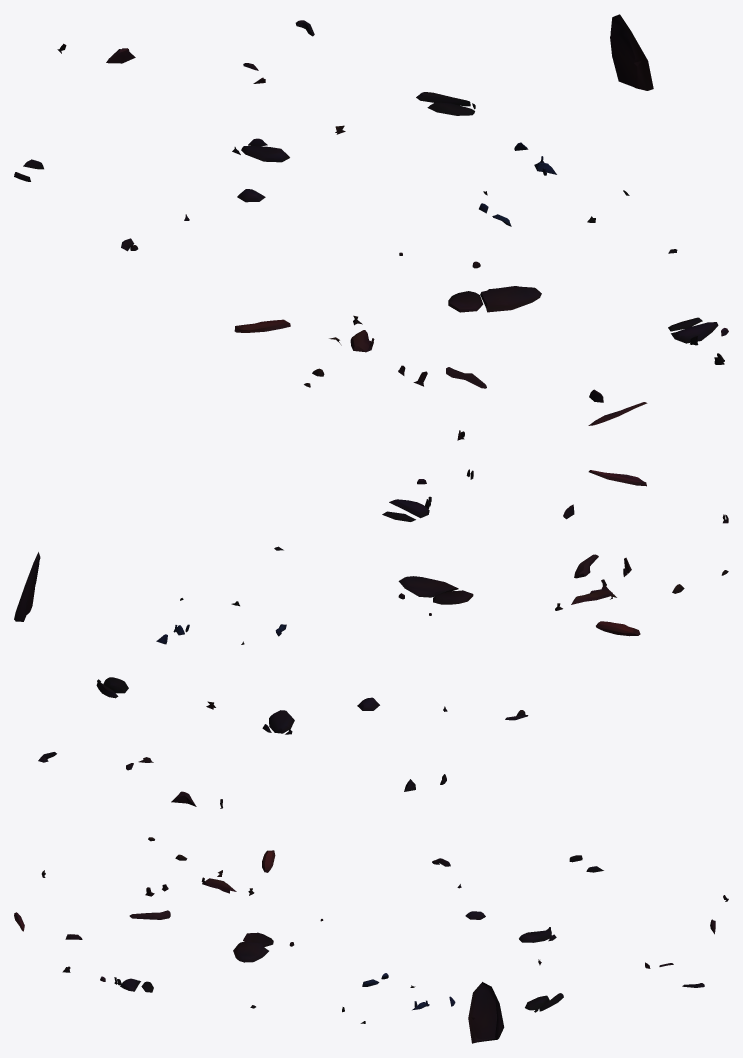
File: ground_rocks_bake_convert.fbx
3 renders of one model, top to bottom at view 1: azimuth 30°, elevation 25°; view 2: azimuth 150°, elevation 25°; view 3: azimuth 270°, elevation 25°, orthographic. The views are drawn at different scales.
Visible parts, largest first — view 1: ground_rocks_combined.002; view 2: ground_rocks_combined.002; view 3: ground_rocks_combined.002.
Boxes of the visible parts, box(x1,y1,x2,y2) form: ground_rocks_combined.002: box(14, 14, 728, 440); ground_rocks_combined.002: box(14, 469, 728, 808); ground_rocks_combined.002: box(14, 837, 728, 1043).
Size of the model in its own units: 3774 by 652 by 5782.
